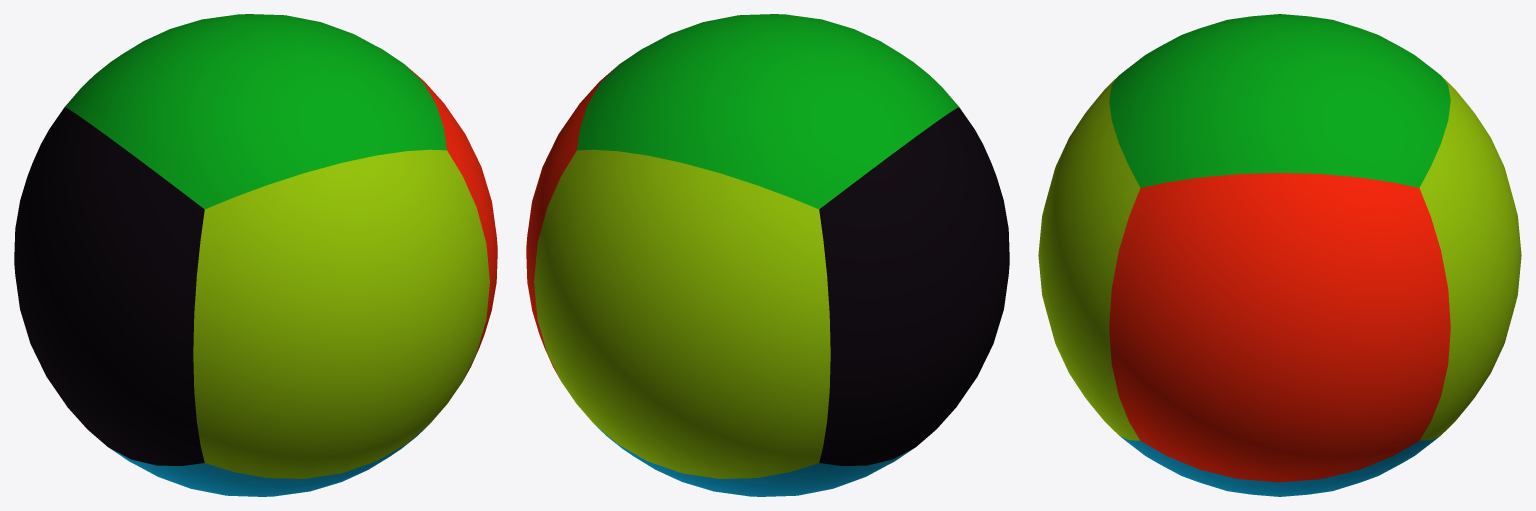
The model's file is Projection_Sphere.fbx.
3 views of the same model, side by side, from view 1: azimuth 30°, elevation 25°; view 2: azimuth 150°, elevation 25°; view 3: azimuth 270°, elevation 25° (orthographic).
Visible parts, largest first — view 1: Front, Left, Top, Bottom, Right; view 2: Back, Left, Top, Bottom, Right; view 3: Right, Top, Front, Back, Bottom.
Boxes of the visible parts, x1,y1,x2,y2 form: Front: (193, 149, 489, 478); Left: (14, 107, 204, 465); Top: (65, 14, 446, 209); Bottom: (109, 426, 427, 496); Right: (405, 65, 497, 378); Back: (534, 149, 830, 478); Left: (819, 107, 1009, 465); Top: (577, 14, 958, 209); Bottom: (596, 426, 914, 496); Right: (526, 65, 618, 378); Right: (1109, 173, 1450, 482); Top: (1109, 14, 1450, 187); Front: (1038, 77, 1140, 440); Back: (1419, 77, 1521, 440); Bottom: (1120, 436, 1439, 496).
Bounding box in the file's own units: 1 × 1 × 1.
